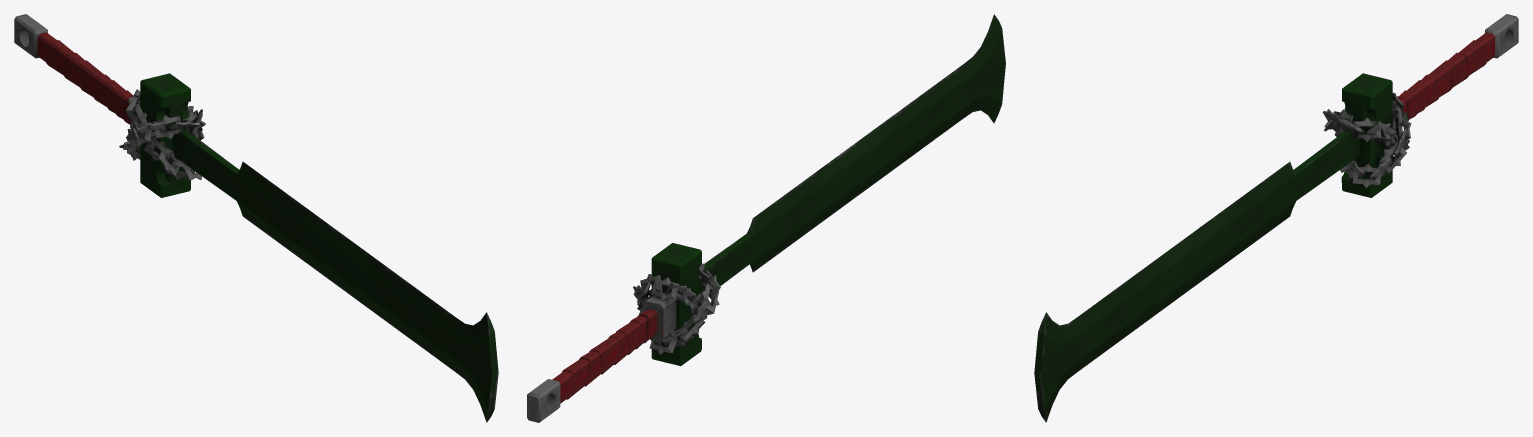
Rendered from blackmetal_2h.fbx.
The picture shows the model from 3 angles, left to right: view 1: azimuth 30°, elevation 25°; view 2: azimuth 150°, elevation 25°; view 3: azimuth 330°, elevation 25°; orthographic projection.
Visible parts, largest first — view 1: Object001; view 2: Object001; view 3: Object001.
Boxes of the visible parts, box(x1,y1,x2,y2) form: Object001: box(14, 14, 498, 422); Object001: box(527, 14, 1005, 422); Object001: box(1034, 14, 1518, 422).
Size of the model in its own units: 208 by 290 by 2253.
